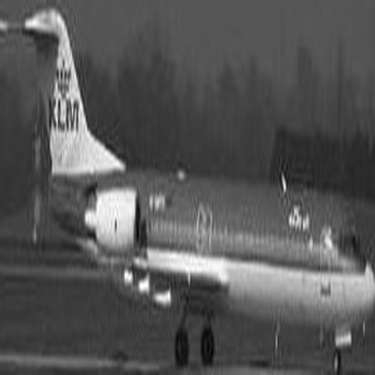airplane: (20, 1, 355, 356)
